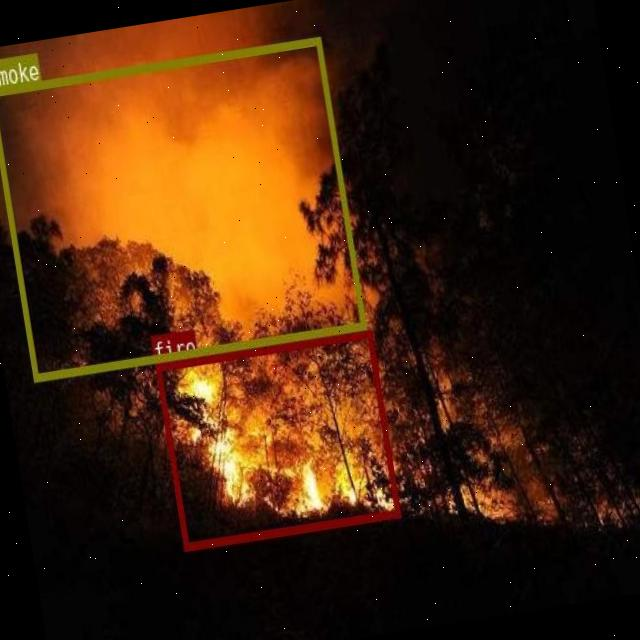fire: (154, 328, 400, 549)
smoke: (0, 36, 366, 380)
